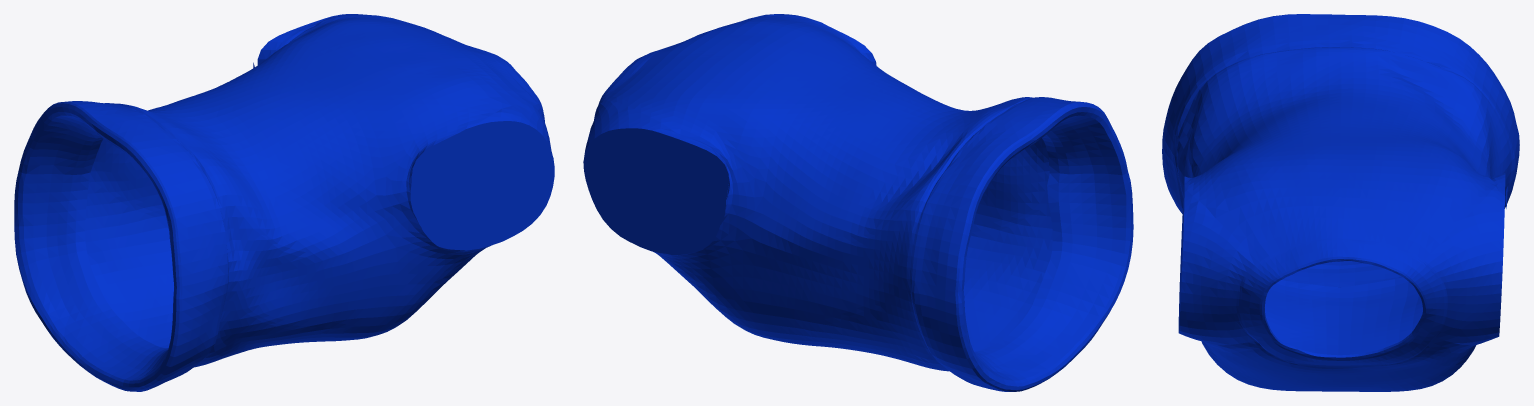
The model's file is torso_nla.obj.
3 renders of one model, left to right at view 1: azimuth 30°, elevation 25°; view 2: azimuth 150°, elevation 25°; view 3: azimuth 270°, elevation 25°, orthographic. The views are drawn at different scales.
Visible parts, largest first — view 1: UnrealEdObject_UnrealEdObject_Default_OBJ.002, (null); view 2: UnrealEdObject_UnrealEdObject_Default_OBJ.002, (null); view 3: UnrealEdObject_UnrealEdObject_Default_OBJ.002, (null).
Boxes of the visible parts, left/top/right/bottom form: UnrealEdObject_UnrealEdObject_Default_OBJ.002: left=14, top=14, right=551, bottom=391; (null): left=253, top=62, right=554, bottom=250; UnrealEdObject_UnrealEdObject_Default_OBJ.002: left=585, top=14, right=1133, bottom=391; (null): left=583, top=128, right=729, bottom=255; UnrealEdObject_UnrealEdObject_Default_OBJ.002: left=1162, top=14, right=1519, bottom=391; (null): left=1178, top=176, right=1507, bottom=332.
Size of the model in its own units: 0.441 by 0.2427 by 0.3024.
